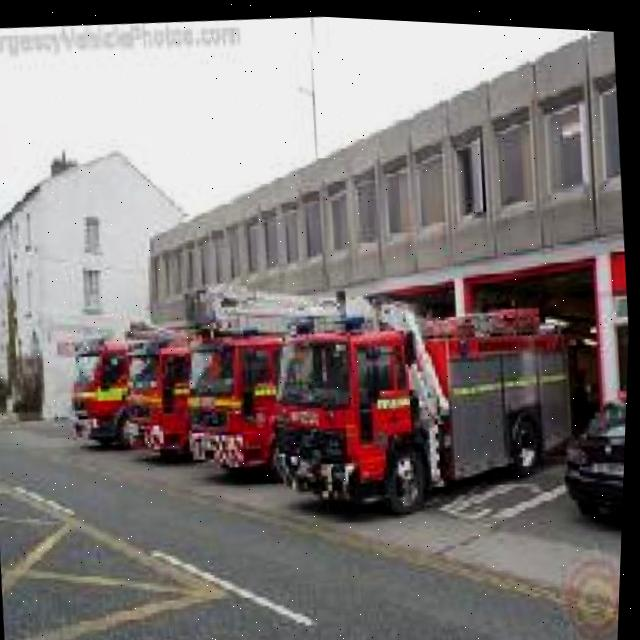emergency: (258, 277, 588, 528), (173, 305, 429, 489), (111, 317, 318, 473), (61, 325, 235, 459)
